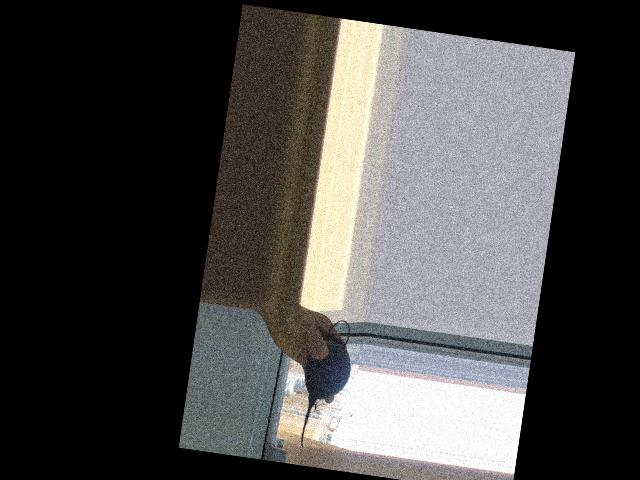beet: (293, 316, 357, 453)
